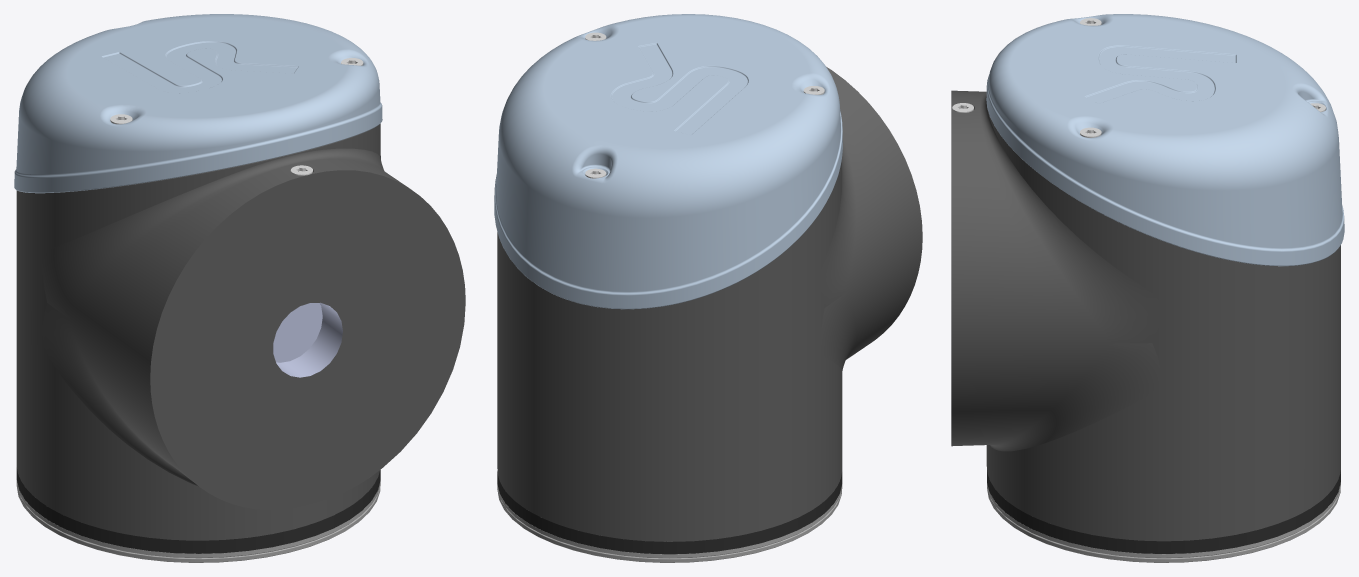
Rendered from joint_4.glb.
The picture shows the model from 3 angles, left to right: view 1: azimuth 30°, elevation 25°; view 2: azimuth 150°, elevation 25°; view 3: azimuth 270°, elevation 25°; orthographic projection. The views are drawn at different scales.
Parts seen in each view (by area): view 1: Solido6, Solido4; view 2: Solido6, Solido4; view 3: Solido6, Solido4.
Part boxes in pixels (x1,y1,x2,y2): Solido6: (16, 124, 465, 562); Solido4: (14, 14, 382, 193); Solido6: (497, 67, 922, 562); Solido4: (494, 14, 842, 309); Solido6: (951, 90, 1340, 562); Solido4: (986, 14, 1344, 266).
Bounding box in the file's own units: 0.091 × 0.1188 × 0.0999.
